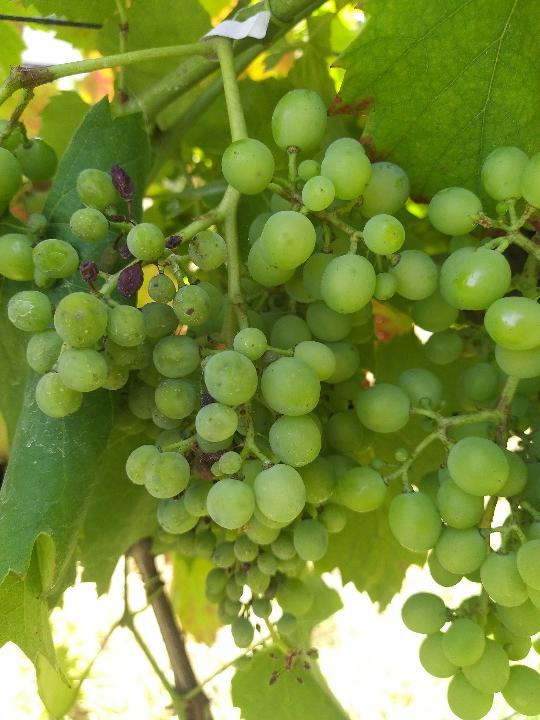grape: (2, 84, 442, 564)
